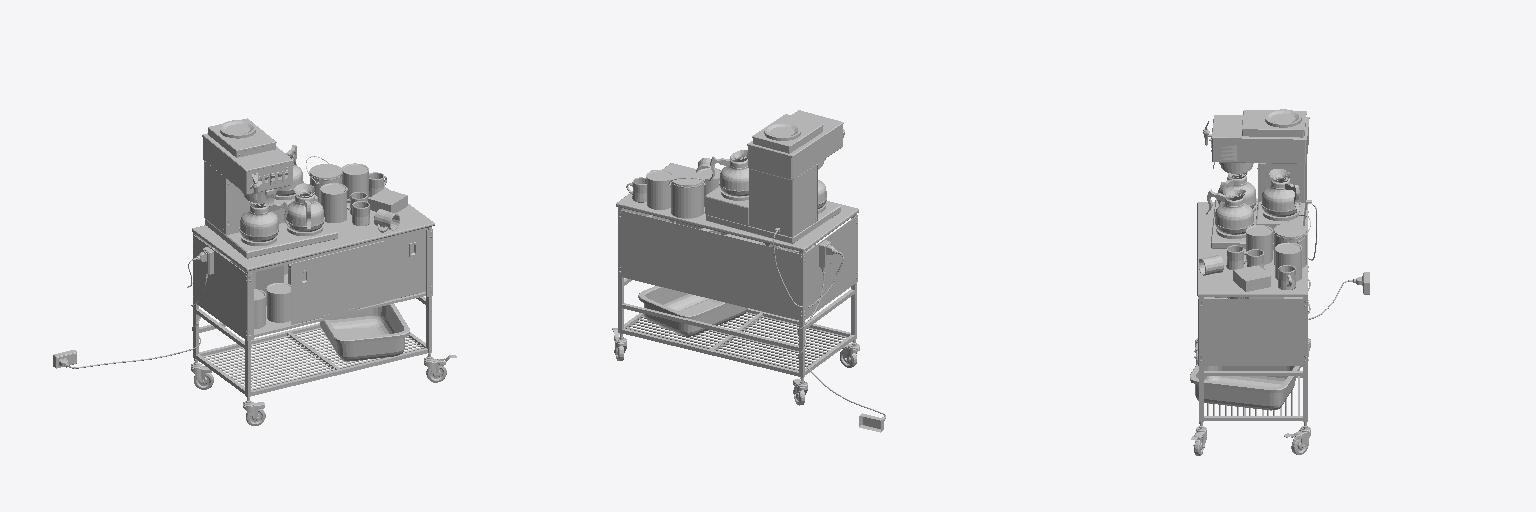
Rendered from CoffeeCart.obj.
3 renders of one model, left to right at view 1: azimuth 30°, elevation 25°; view 2: azimuth 150°, elevation 25°; view 3: azimuth 270°, elevation 25°, orthographic.
Parts seen in each view (by area): view 1: Bottom_Cart, Top_Cart, Mugs; view 2: Bottom_Cart, Top_Cart; view 3: Top_Cart, Bottom_Cart, Mugs.
Boxes of the visible parts, box(x1,y1,x2,y2) form: Bottom_Cart: box(191, 186, 456, 425); Top_Cart: box(53, 118, 409, 368); Mugs: box(347, 172, 399, 232); Bottom_Cart: box(612, 163, 859, 405); Top_Cart: box(638, 110, 885, 432); Top_Cart: box(1190, 109, 1369, 410); Bottom_Cart: box(1191, 202, 1310, 455); Mugs: box(1199, 245, 1295, 289).
Size of the model in its own units: 2.17 by 1.72 by 1.07.